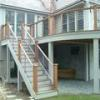stairs: (0, 41, 55, 99)
